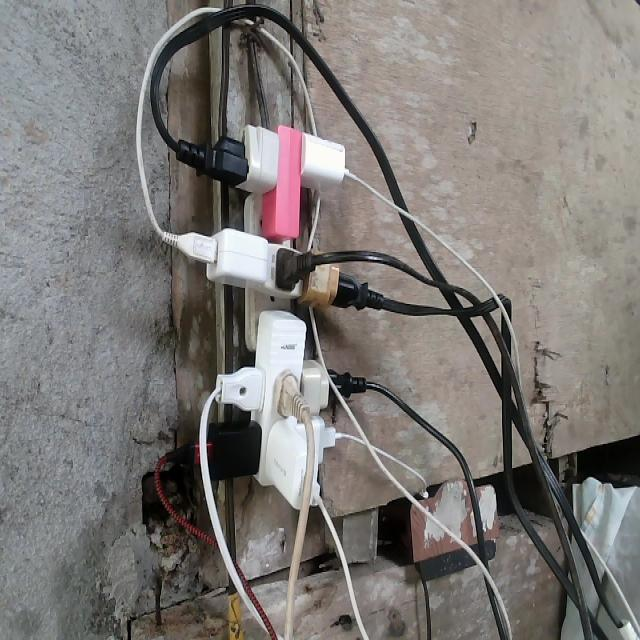-: (184, 121, 356, 514)
